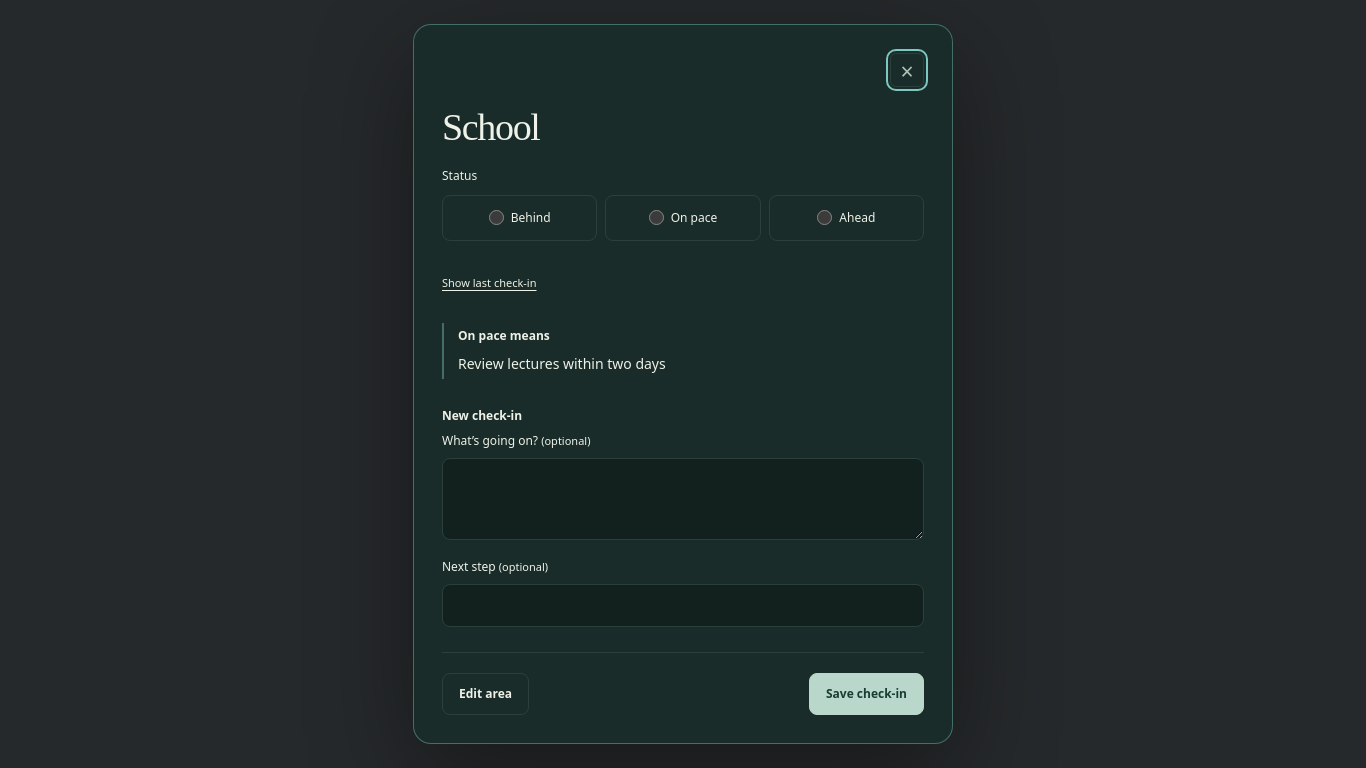
it: requires a status, adapts the note label, and saves the reason and next step
The width and height of the screenshot is (1366, 768).
Later steps or results of the test are not shown.
expect the number of radio buttons is 3: met, box 489,210 -> 504,225; 649,210 -> 664,225; 817,210 -> 832,225
Step 1. Click the button "Save check-in" → [866, 694], box 809,673 -> 924,715
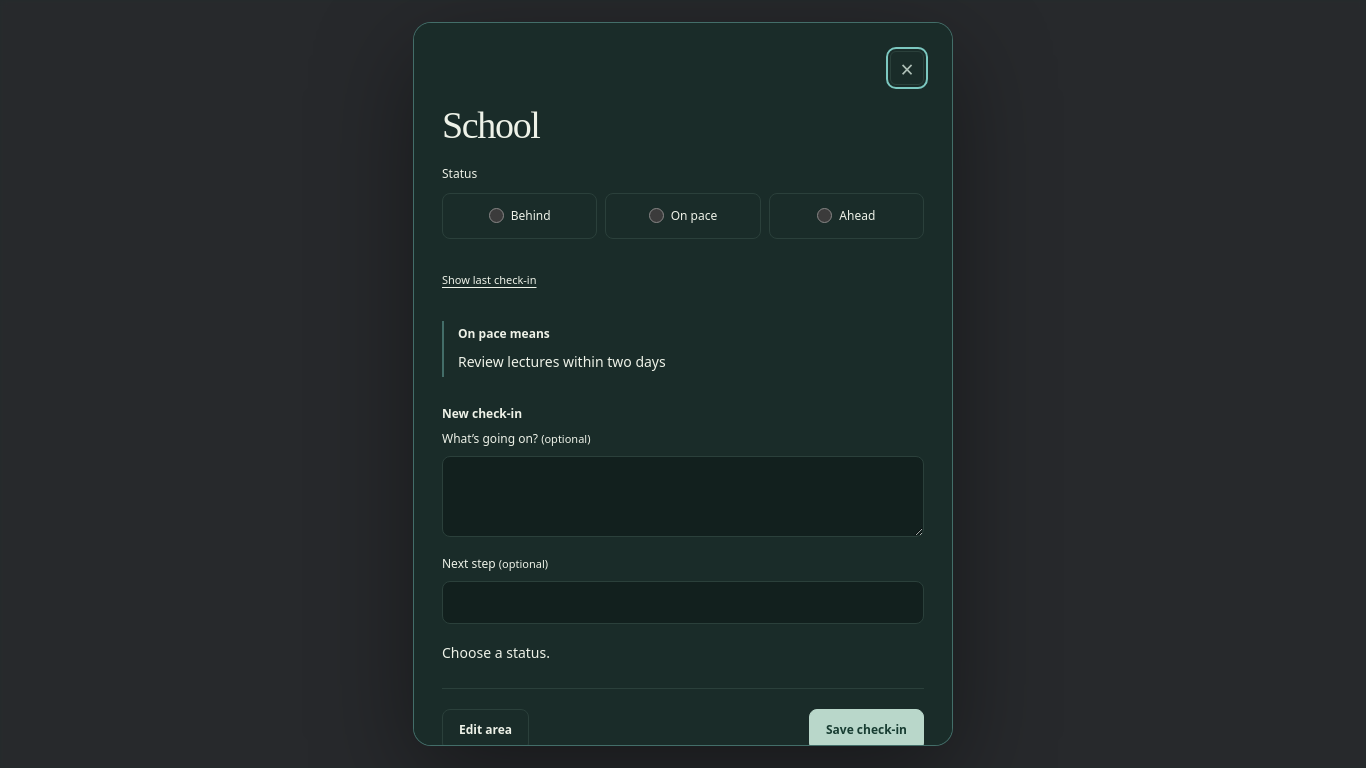
expect the message "Choose a status." is shown: met, box 442,643 -> 550,662
Step 2. Click the radio button labelled "Behind" → [496, 216], box 489,208 -> 504,223
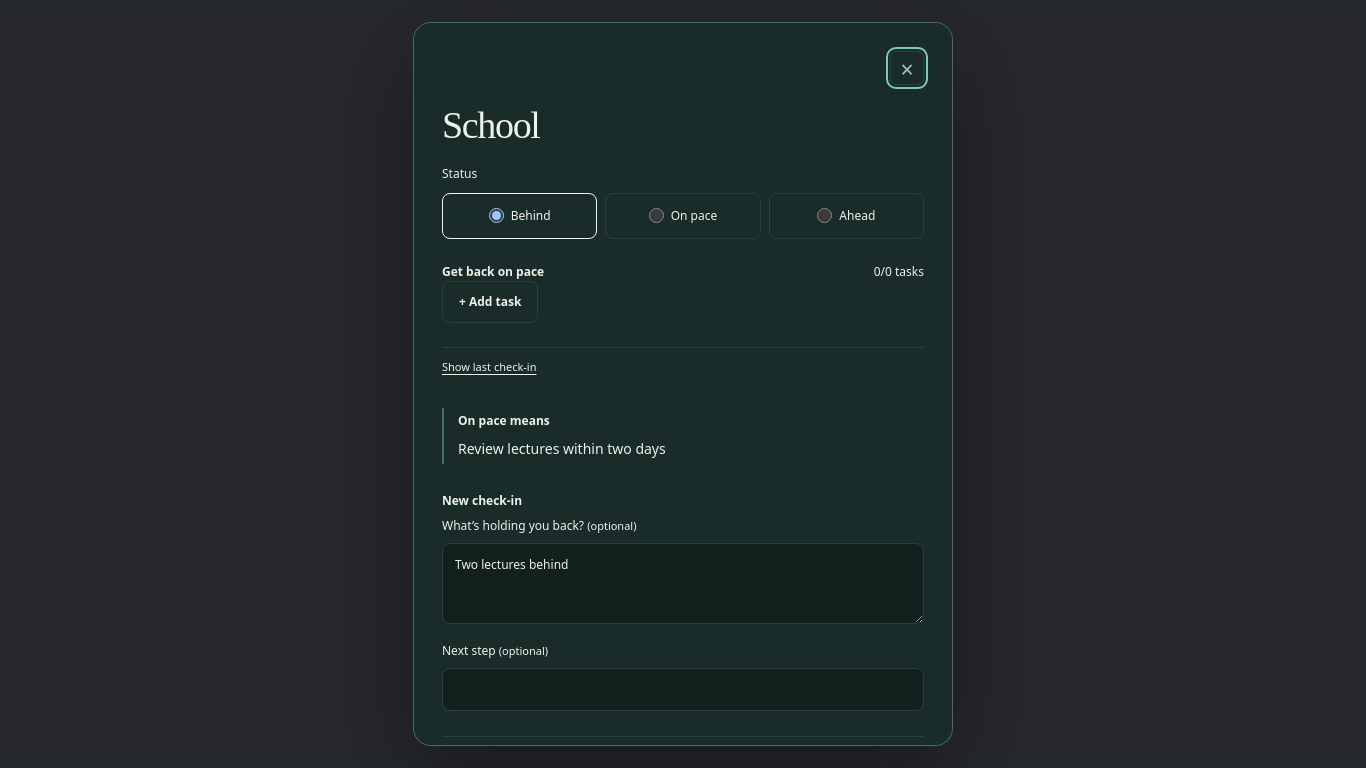
expect the text "What’s holding you back?" is shown: met, box 442,517 -> 584,534
